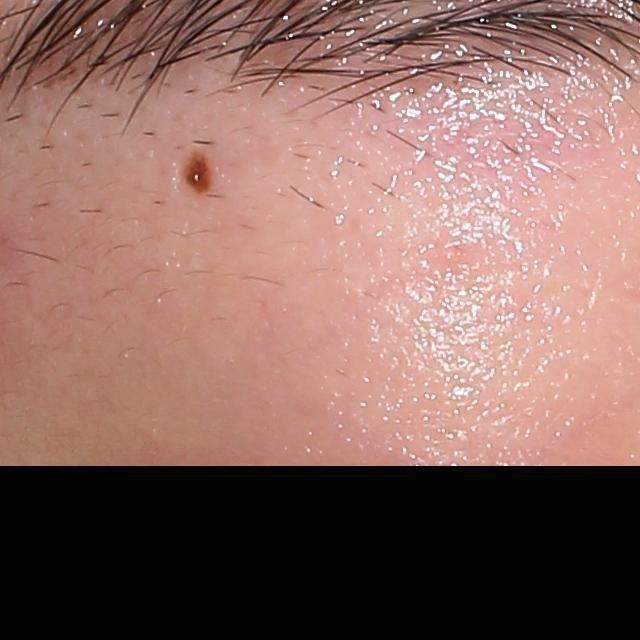nevus: (176, 154, 212, 201)
